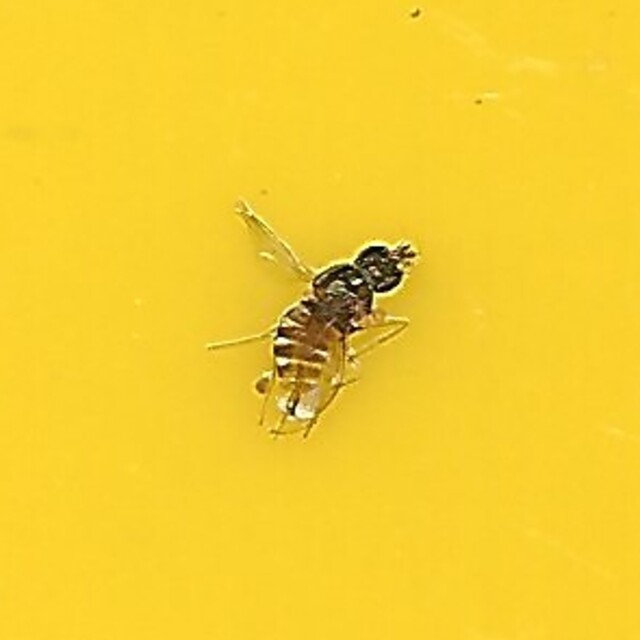Brachycera: (217, 202, 423, 438)
